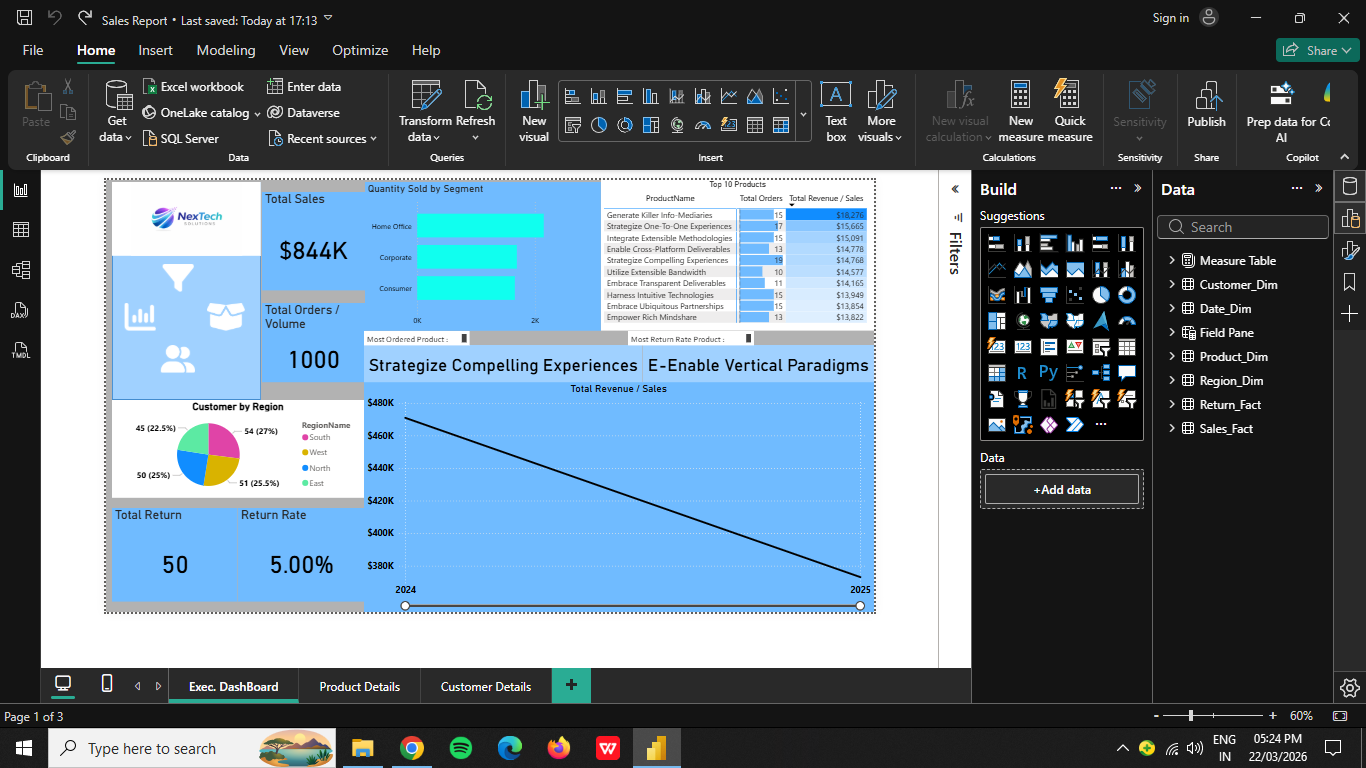

Layout of this report page (visuals, bound fields, positions):
{"tool":"powerbi","page":{"name":"Exec. DashBoard","canvas":[1280,720],"ordinal":0},"visuals":[{"type":"card","title":"Total Sales","fields":{"Values":["Measure Table.Total Revenue / Sales"]},"box":[259.2,19.7,171.6,164.5],"z":0},{"type":"card","title":"Total Orders / Volume","fields":{"Values":["Measure Table.Total Orders"]},"box":[259.2,205.6,171.6,132.3],"z":1000},{"type":"card","title":"Total Return","fields":{"Values":["Measure Table.Total Returned"]},"box":[10.7,547,209.2,155.5],"z":2000},{"type":"card","title":"Return Rate ","fields":{"Values":["Measure Table.Return Rate"]},"box":[219.9,547,210.9,155.5],"z":3000},{"type":"barChart","fields":{"Category":["Customer_Dim.Segment"],"Y":["Measure Table.Quantity Sold"]},"box":[430.8,3.6,393.3,248.5],"z":4000},{"type":"lineChart","title":"Total Revenue / Sales ","fields":{"Category":["Date_Dim.Year Hierarchy.Year","Date_Dim.Year Hierarchy.Quarter","Date_Dim.Year Hierarchy.Start of Month","Date_Dim.Year Hierarchy.Start of Week"],"Y":["Measure Table.Total Revenue / Sales"]},"box":[430.5,336.5,849.3,383.5],"z":5000},{"type":"pivotTable","title":"Top 10 Products","fields":{"Rows":["Product_Dim.ProductName"],"Values":["Measure Table.Total Orders","Measure Table.Total Revenue / Sales"]},"box":[824.3,0,455.5,251.3],"z":6000},{"type":"card","fields":{"Values":["Min(Product_Dim.ProductName)"]},"box":[430.5,274.8,464.3,61.7],"z":7000},{"type":"textbox","box":[430.5,251.3,176.3,23.5],"z":8000},{"type":"card","fields":{"Values":["Min(Product_Dim.ProductName)"]},"box":[894.9,274.8,385,61.7],"z":9000},{"type":"textbox","box":[869.9,251.3,210.1,23.5],"z":10000},{"type":"shape","box":[10.3,2.9,248.3,362.9],"z":11000},{"type":"image","box":[25,205.7,63.2,45.6],"z":12000},{"type":"image","box":[167.5,205.7,63.2,45.6],"z":13000},{"type":"image","box":[88.2,274.8,63.2,45.6],"z":15000},{"type":"image","box":[88.2,139.6,63.2,45.6],"z":16000},{"type":"image","box":[10.3,2.9,248.3,123.4],"z":17000},{"type":"pieChart","title":"Customer by Region","fields":{"Category":["Region_Dim.RegionName"],"Y":["Measure Table.Unique Customer"]},"box":[10.3,365.9,420.2,163.1],"z":18000}]}

Visuals, with their boxes on the page's 1280x720 design canvas (x1, y1, x2, y2). These are canvas units, not pixel positions in the 1366x768 screenshot, which may show the page scaled, cropped or inside an application window:
"Total Sales" card: bbox=(259, 20, 431, 184)
"Total Orders / Volume" card: bbox=(259, 206, 431, 338)
"Total Return" card: bbox=(11, 547, 220, 702)
"Return Rate " card: bbox=(220, 547, 431, 702)
barChart - Customer_Dim.Segment x Measure Table.Quantity Sold: bbox=(431, 4, 824, 252)
"Total Revenue / Sales " lineChart: bbox=(430, 336, 1280, 720)
"Top 10 Products" pivotTable: bbox=(824, 0, 1280, 251)
card - Min(Product_Dim.ProductName): bbox=(430, 275, 895, 336)
textbox: bbox=(430, 251, 607, 275)
card - Min(Product_Dim.ProductName): bbox=(895, 275, 1280, 336)
textbox: bbox=(870, 251, 1080, 275)
shape: bbox=(10, 3, 259, 366)
image: bbox=(25, 206, 88, 251)
image: bbox=(168, 206, 231, 251)
image: bbox=(88, 275, 151, 320)
image: bbox=(88, 140, 151, 185)
image: bbox=(10, 3, 259, 126)
"Customer by Region" pieChart: bbox=(10, 366, 430, 529)
